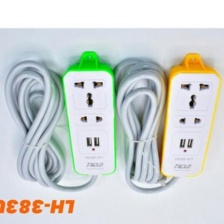three_eye_plug: (155, 55, 224, 183), (57, 50, 122, 181)
